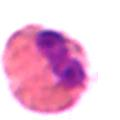monocyte: (2, 22, 92, 116)
